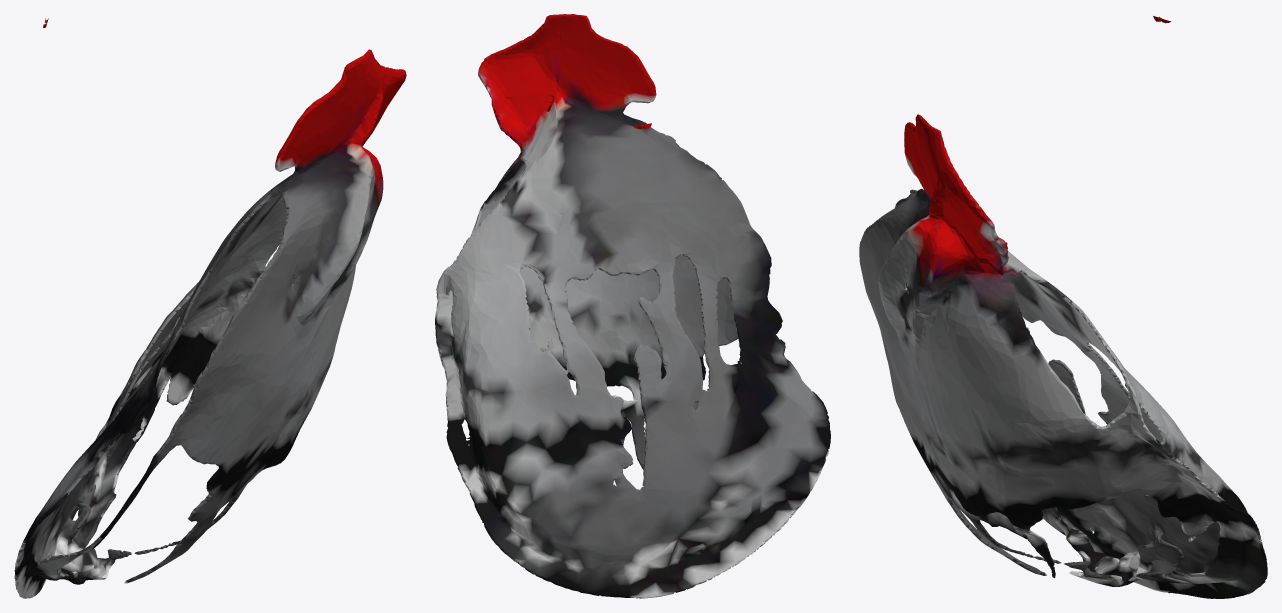
File: fullhelmet.glb
The picture shows the model from 3 angles, left to right: view 1: azimuth 30°, elevation 25°; view 2: azimuth 150°, elevation 25°; view 3: azimuth 270°, elevation 25°; orthographic projection. The views are drawn at different scales.
Parts seen in each view (by area): view 1: geometry_0; view 2: geometry_0; view 3: geometry_0.
Part boxes in pixels (x1=…): geometry_0: x1=14, y1=18, x2=406, y2=598; geometry_0: x1=435, y1=14, x2=830, y2=598; geometry_0: x1=859, y1=16, x2=1267, y2=598.
Size of the model in its own units: 0.5625 by 0.7544 by 0.4861.
